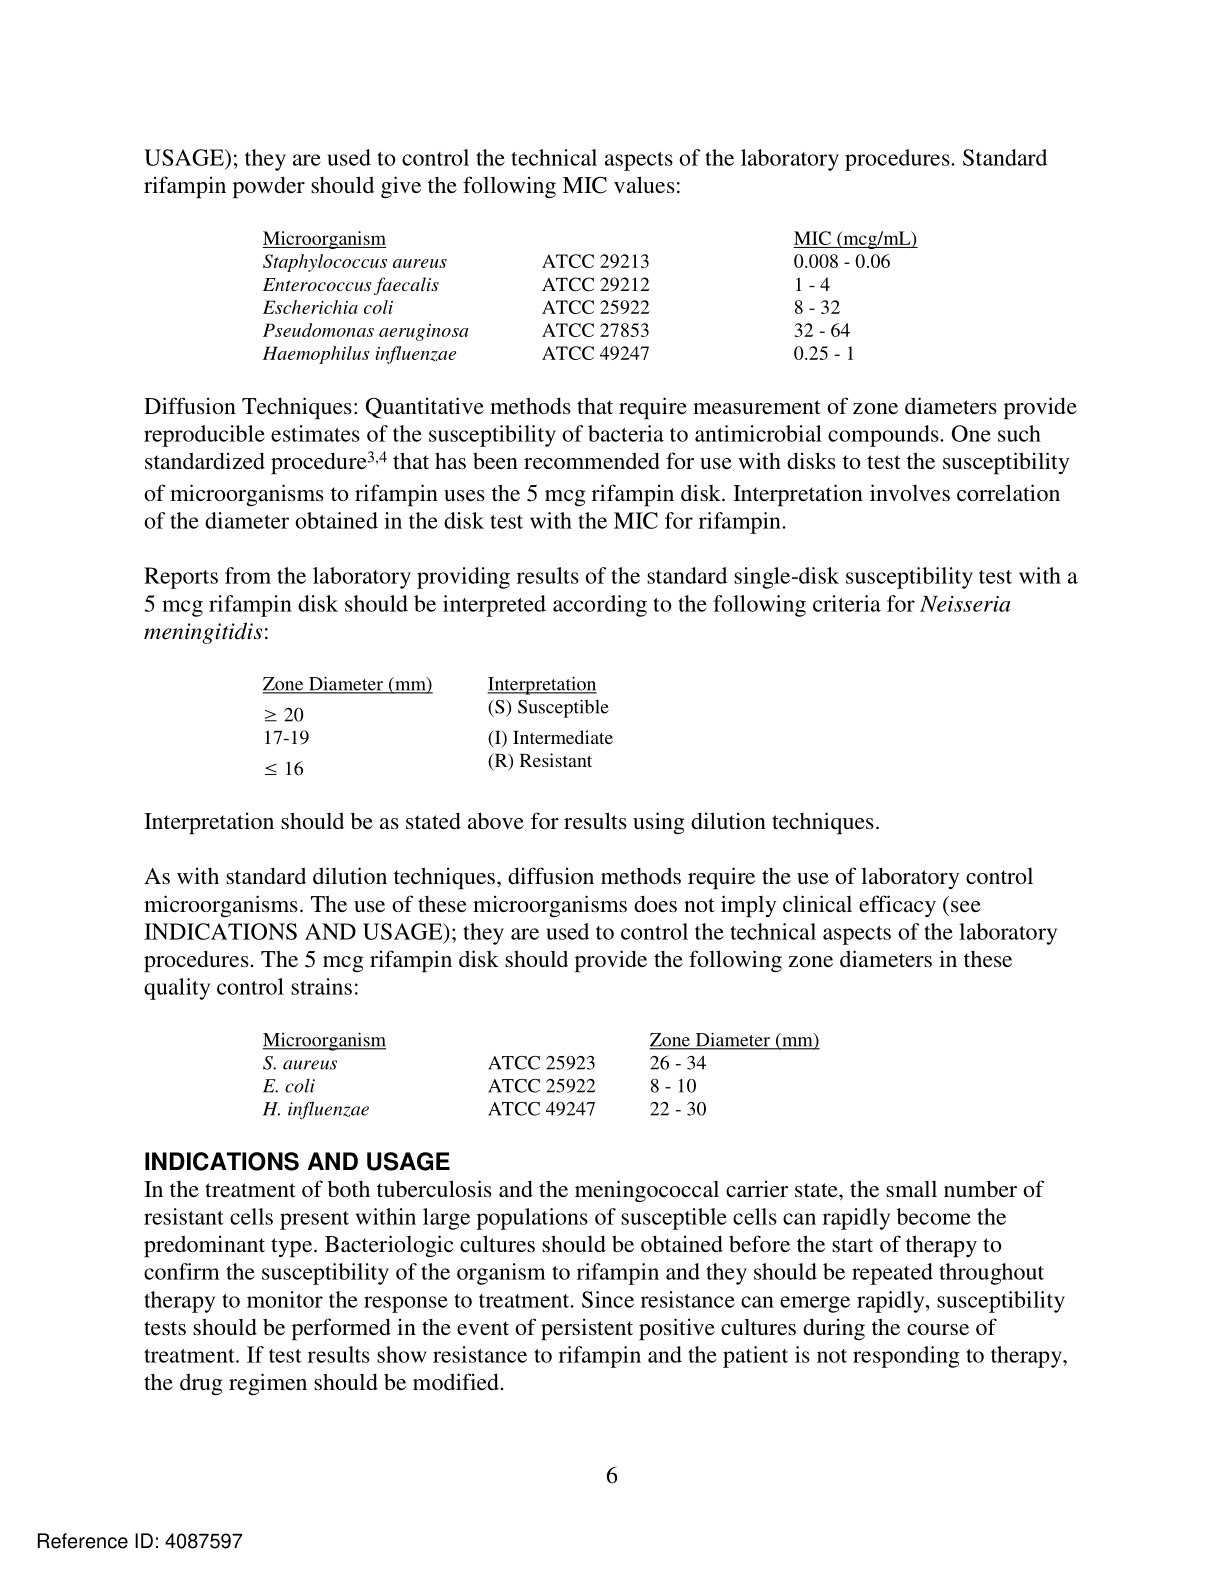nolines: (255, 224, 921, 363), (255, 1026, 822, 1122), (256, 670, 616, 775)
